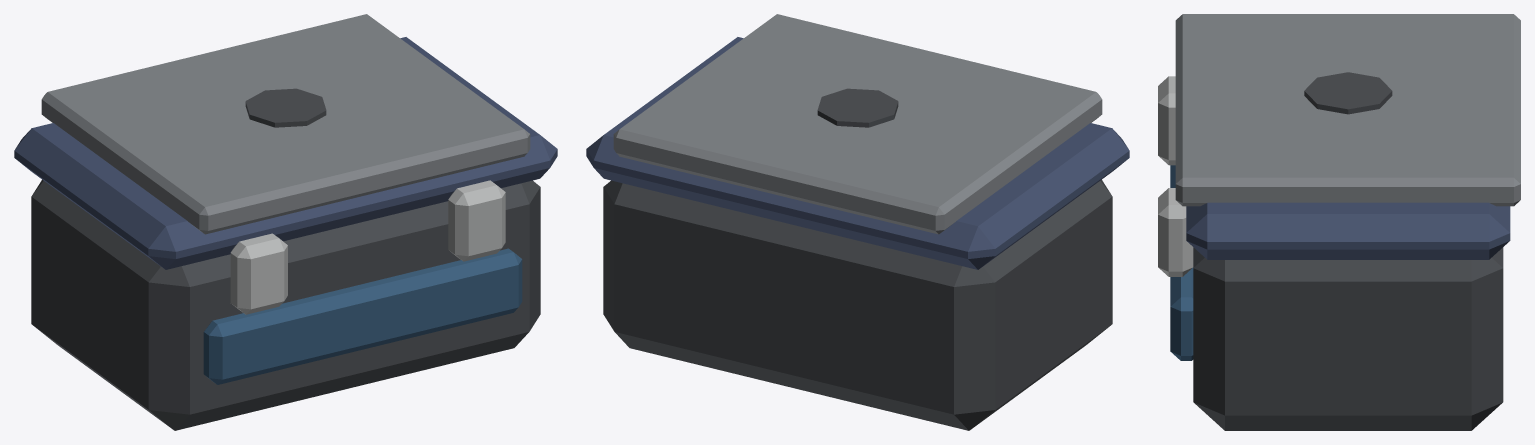
File: ammo_box_pistol.fbx
3 renders of one model, left to right at view 1: azimuth 30°, elevation 25°; view 2: azimuth 150°, elevation 25°; view 3: azimuth 270°, elevation 25°, orthographic. The views are drawn at different scales.
Visible parts, largest first — view 1: ammo_box_pistol; view 2: ammo_box_pistol; view 3: ammo_box_pistol.
Boxes of the visible parts, x1,y1,x2,y2 form: ammo_box_pistol: (14,14,557,430); ammo_box_pistol: (586,14,1129,430); ammo_box_pistol: (1158,14,1520,430).
Bounding box in the file's own units: 0.282 × 0.1586 × 0.206.
